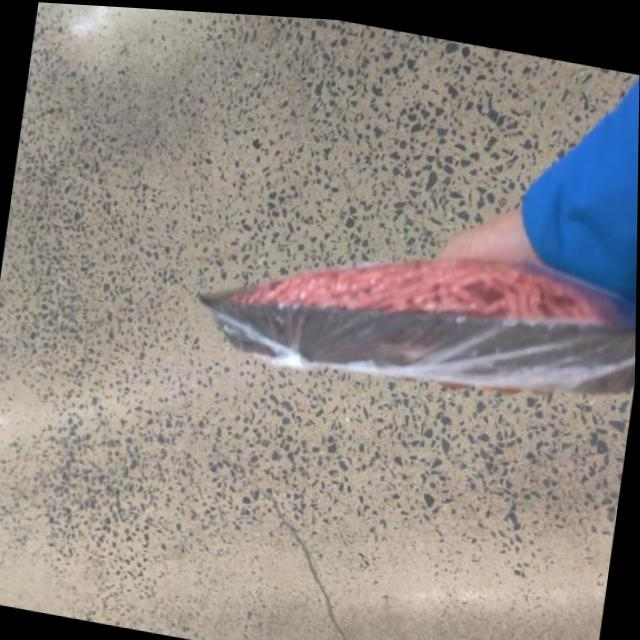Meat: (195, 201, 638, 420)
